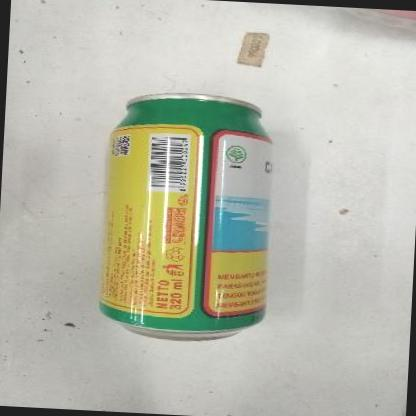alumunium_can: (95, 88, 280, 348)
